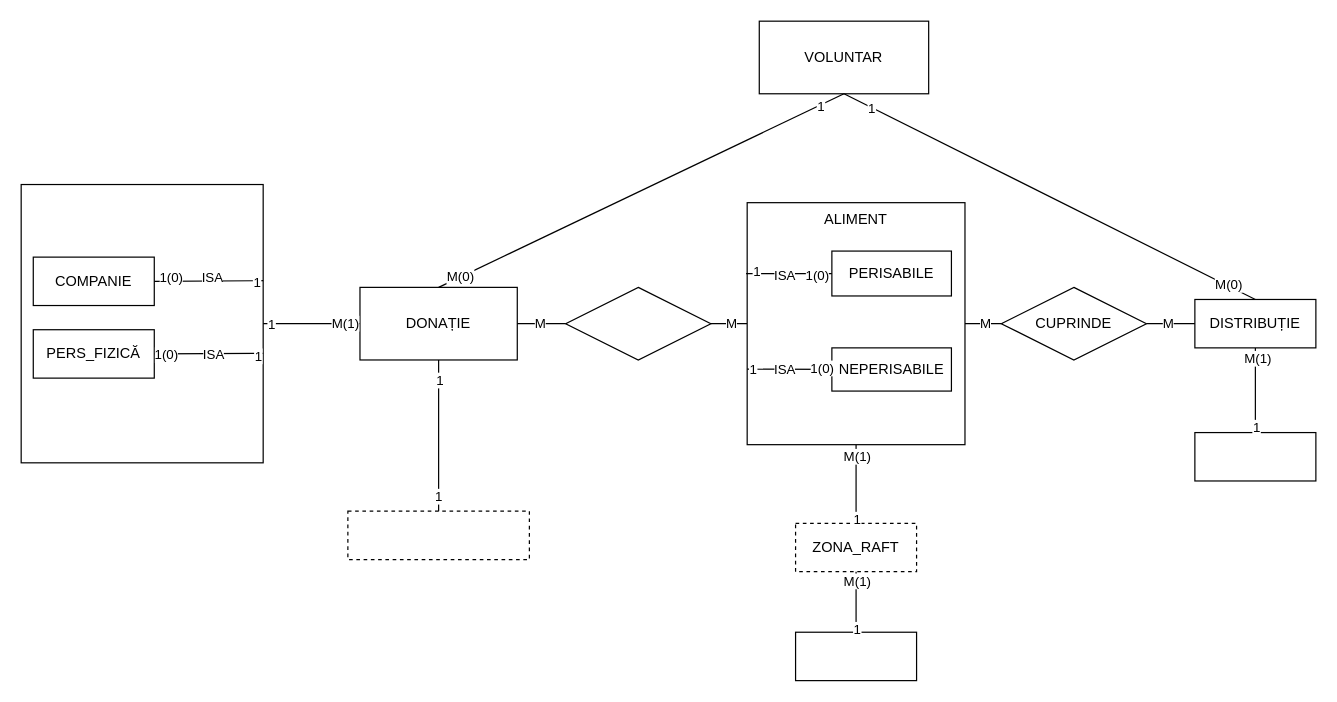
Image size: 1337x702. Some labels were removed from this diagram. The shapes that lost their labels are listed below. From the top down, each one's box as (x1, y1, x2, y2) in pixels, then its label:
(20, 183, 263, 463): DONATOR
(564, 286, 711, 360): CONȚINE
(1194, 431, 1316, 481): BENEFICIAR
(347, 510, 529, 560): CERTIFICAT_DONAȚIE
(794, 631, 917, 681): DEPOZIT
